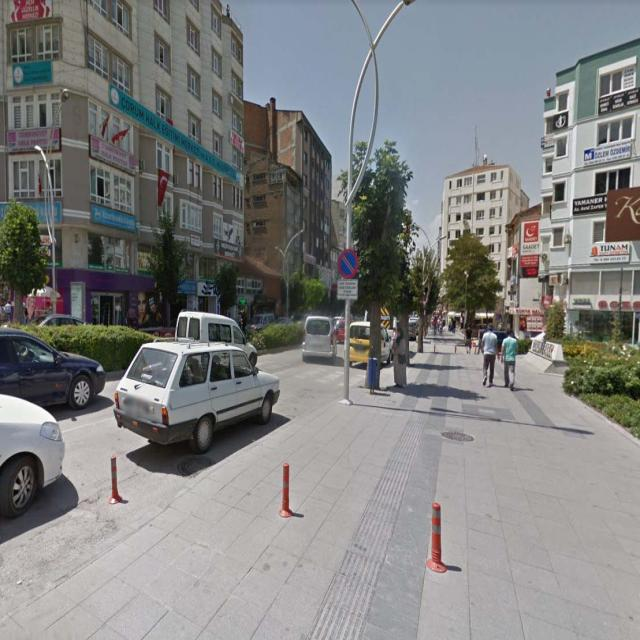parkyasak: (338, 250, 357, 280)
